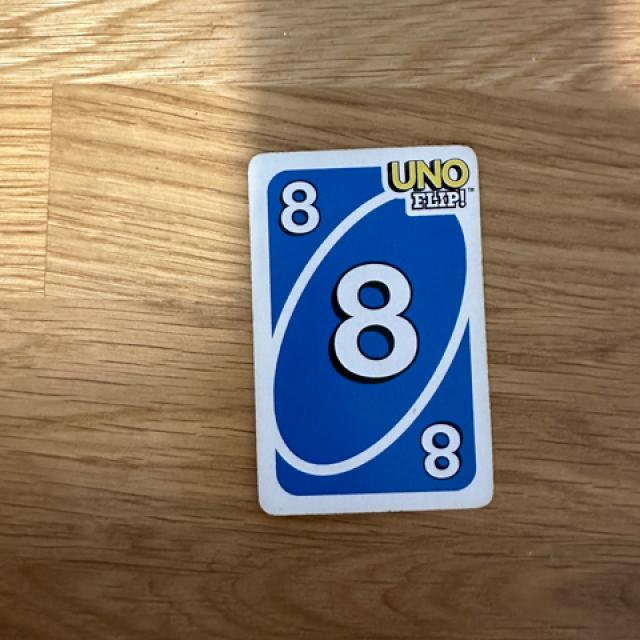lblue-8: (258, 162, 336, 256)
